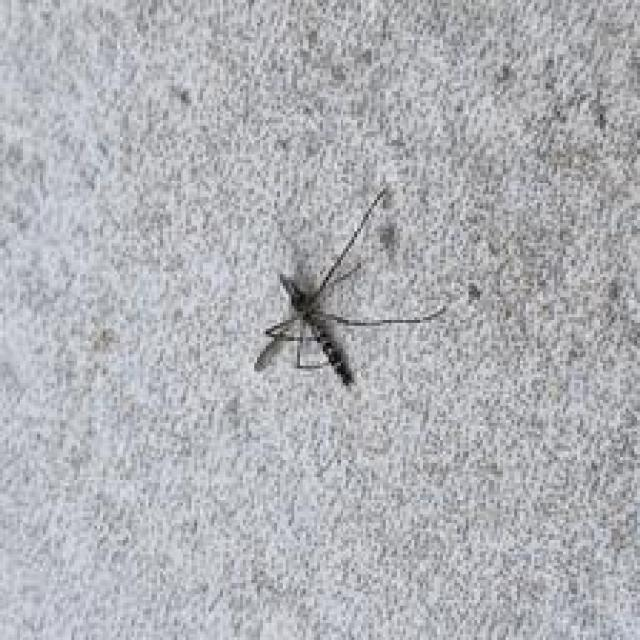Aedes albopictus: (253, 185, 447, 388)
